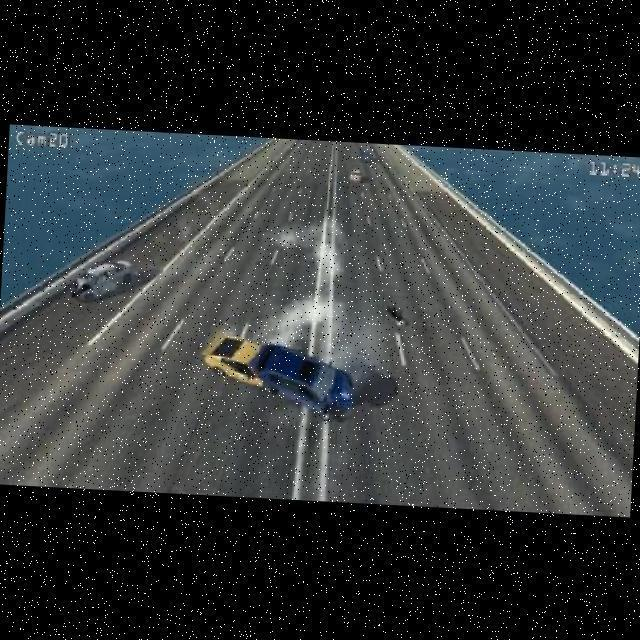accident: (195, 329, 373, 418)
